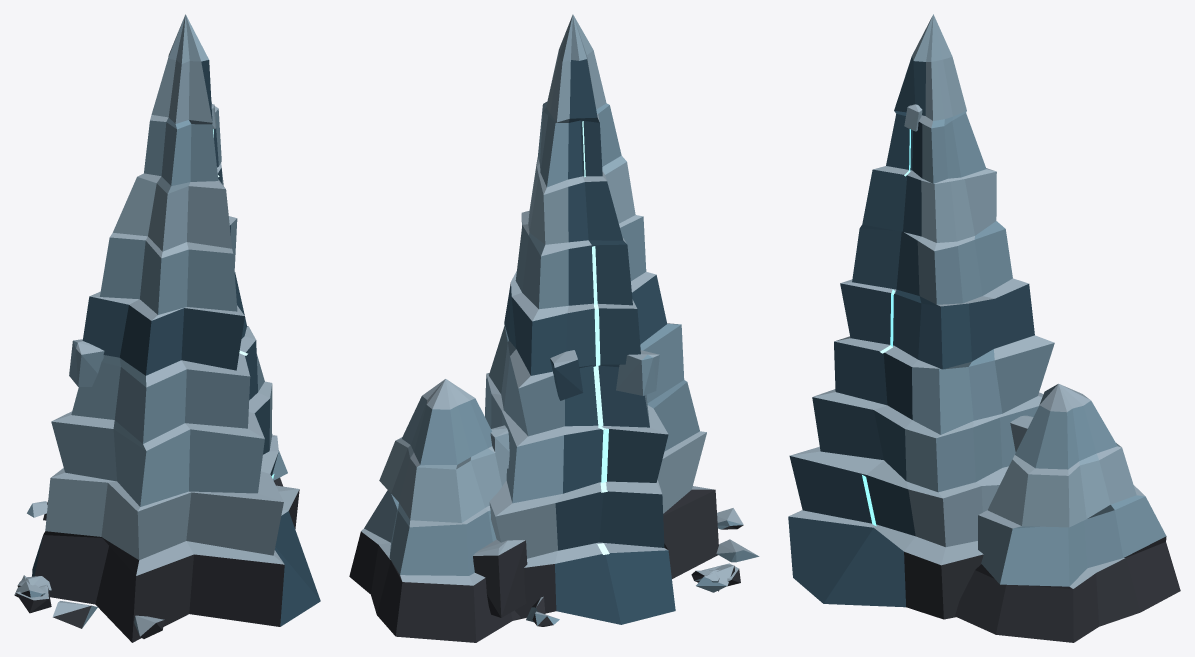
File: cliff_c.glb
The picture shows the model from 3 angles, left to right: view 1: azimuth 30°, elevation 25°; view 2: azimuth 150°, elevation 25°; view 3: azimuth 270°, elevation 25°; orthographic projection. The views are drawn at different scales.
Visible parts, largest first — view 1: cliff_c; view 2: cliff_c; view 3: cliff_c.
Boxes of the visible parts, x1,y1,x2,y2 form: cliff_c: (14,14,320,642); cliff_c: (349,14,759,642); cliff_c: (788,14,1180,642).
Size of the model in its own units: 12.24 by 20.41 by 13.08.
